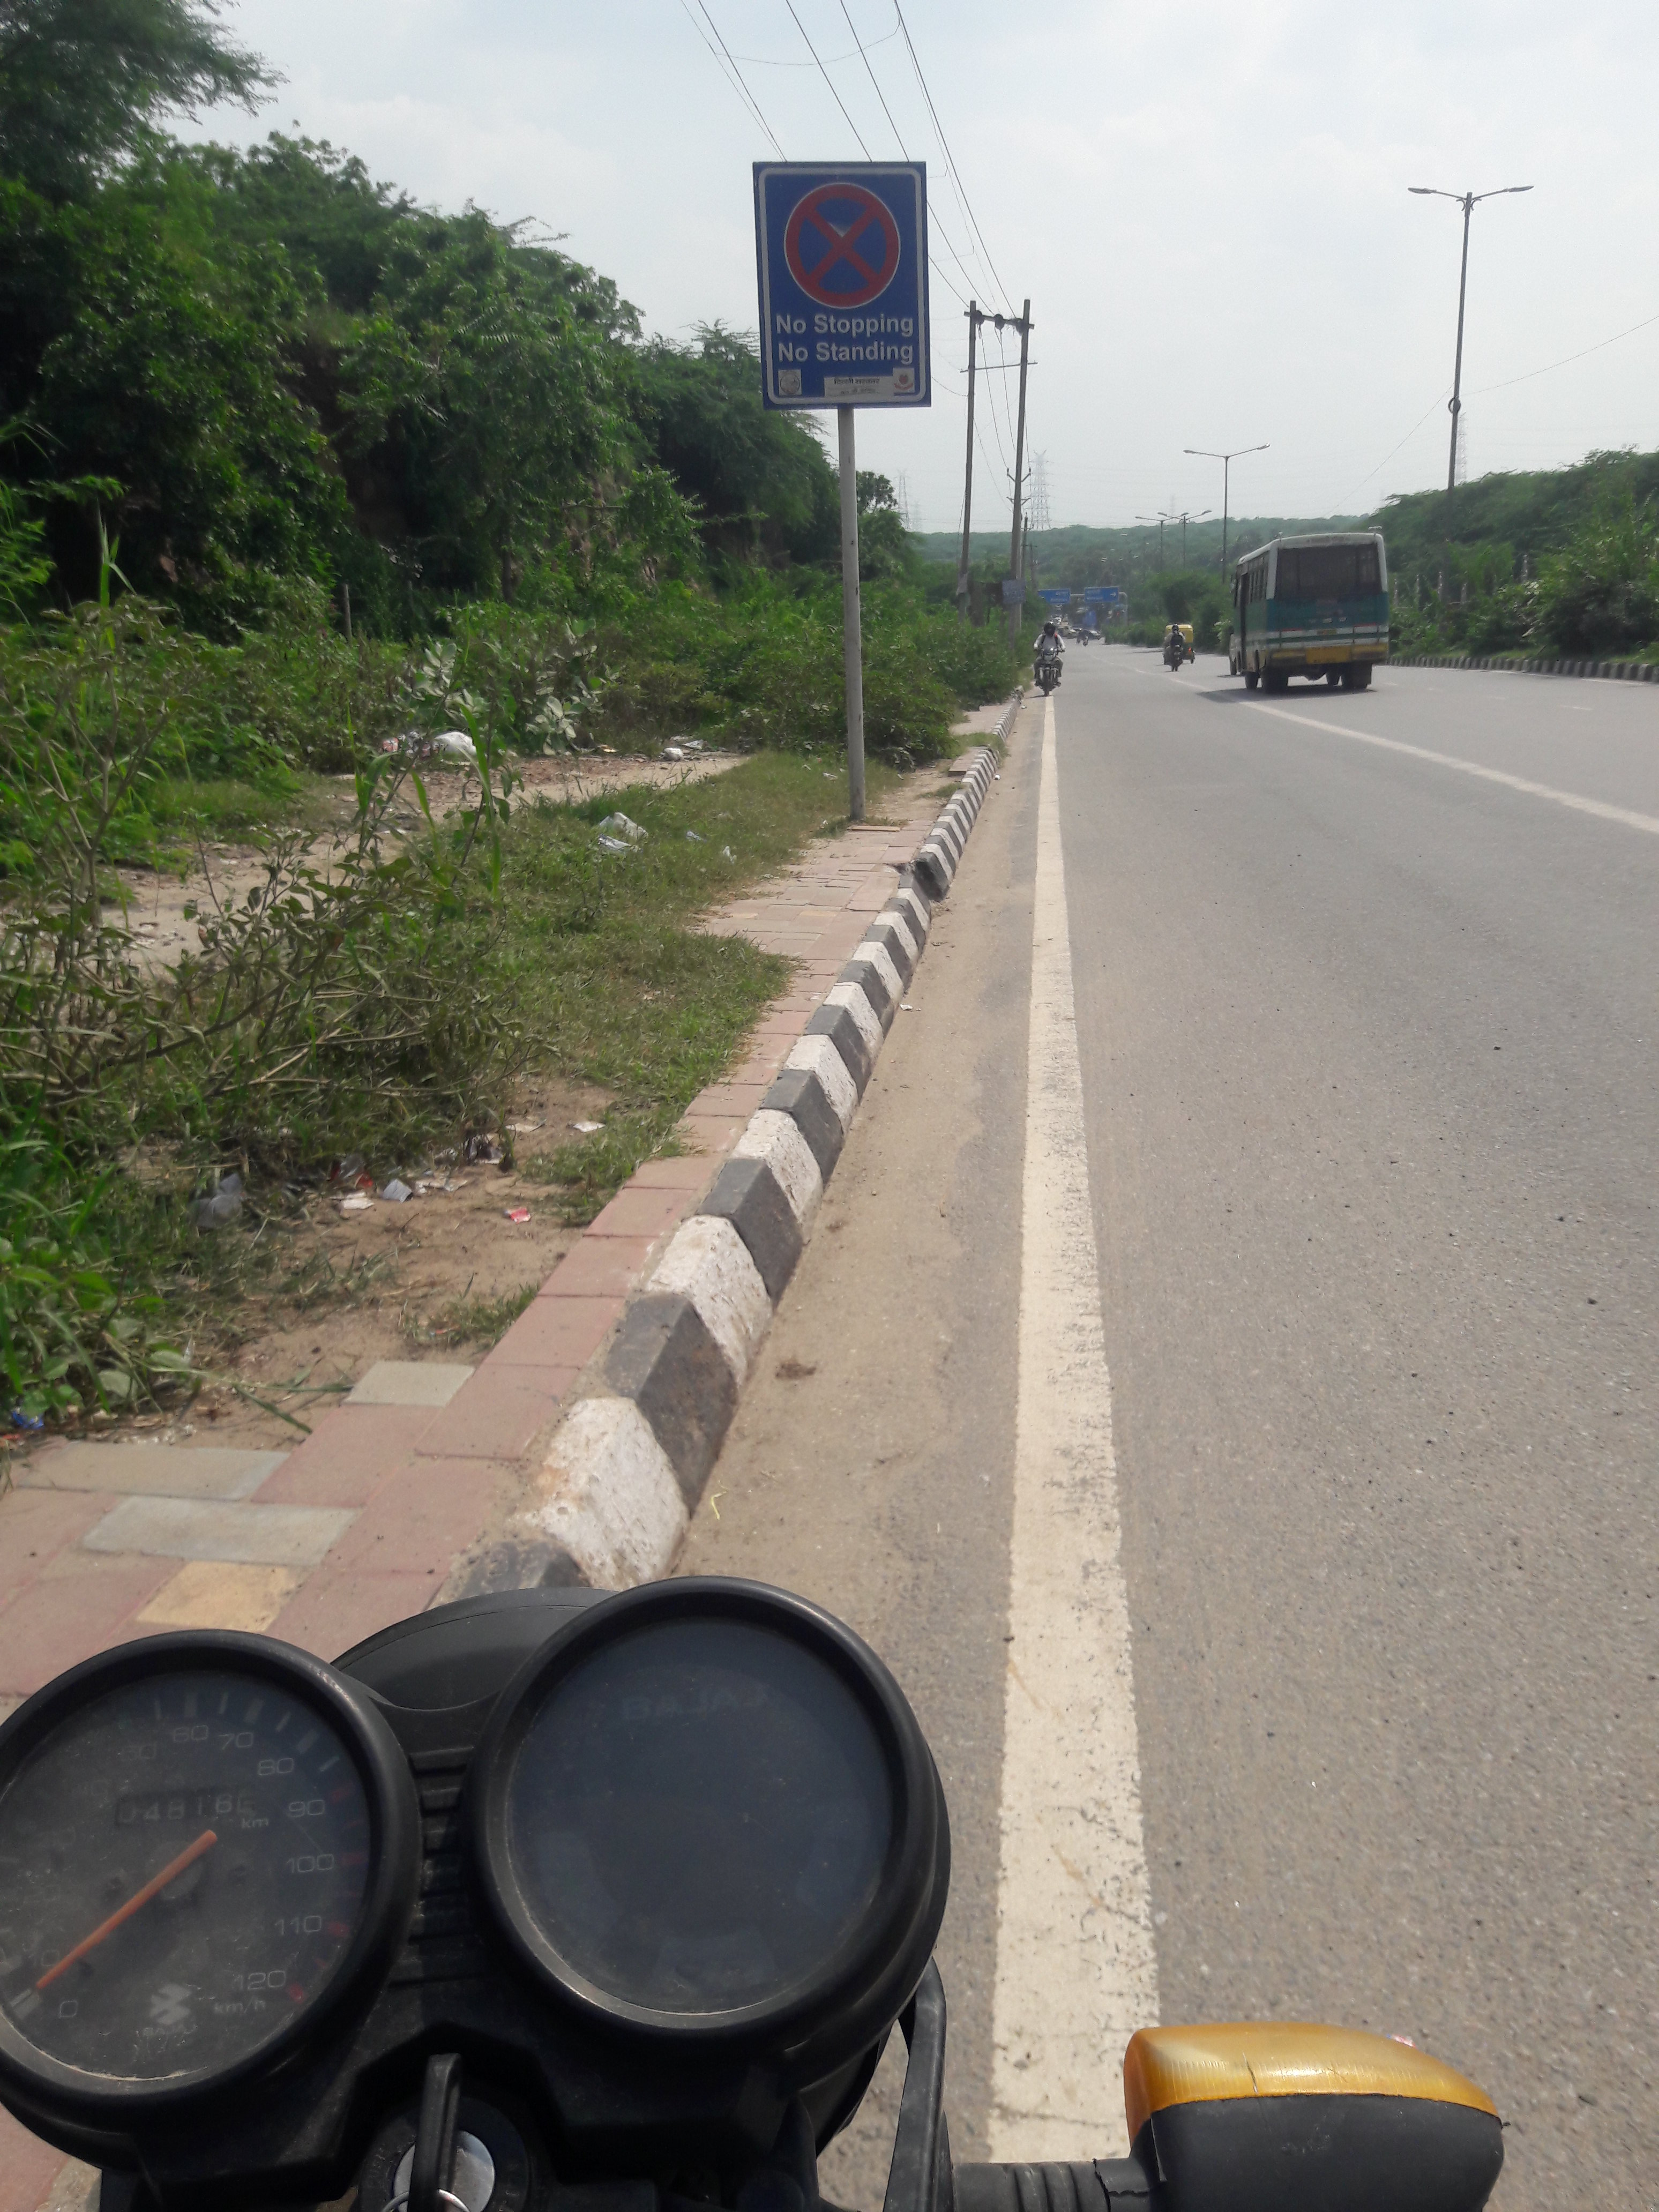traffic_sign: (753, 158, 931, 409)
